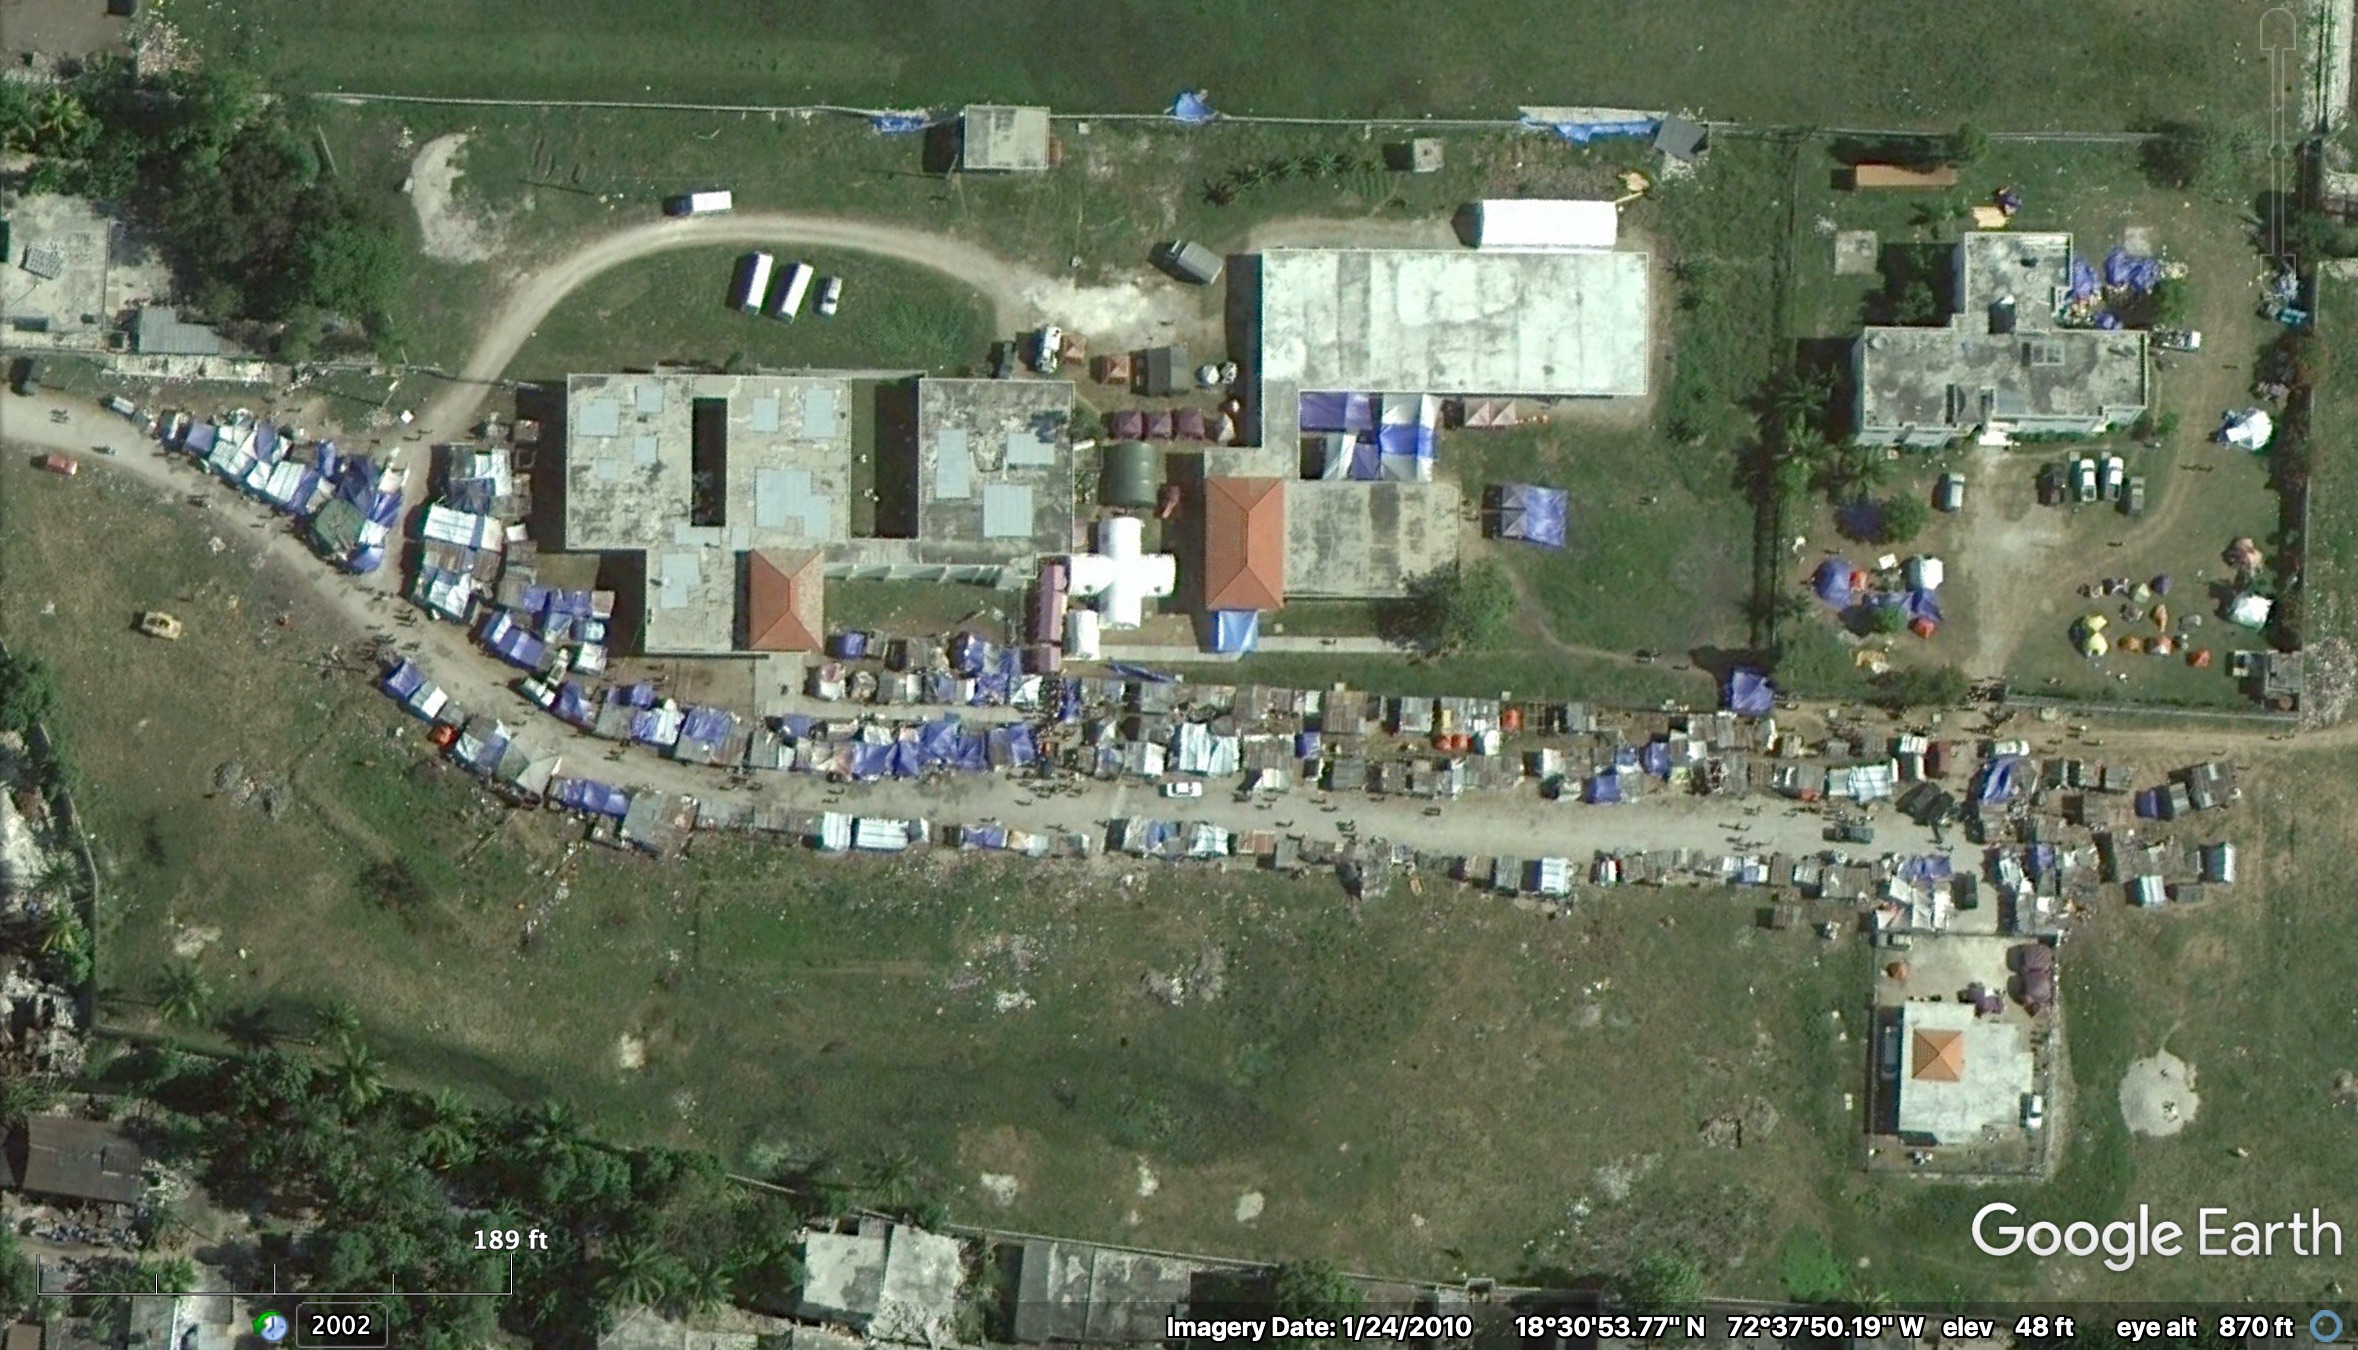building: (1850, 324, 2152, 447), (911, 376, 1076, 540), (566, 372, 690, 547), (728, 376, 850, 545), (1205, 477, 1284, 608), (743, 545, 826, 654), (646, 550, 732, 653), (957, 101, 1054, 175)
car: (1991, 730, 2035, 759), (2021, 1090, 2048, 1134), (1872, 930, 1920, 955)
dirt road: (625, 222, 683, 251), (971, 261, 1026, 291), (714, 218, 789, 239), (901, 234, 960, 261), (824, 224, 883, 246), (513, 295, 537, 332), (553, 262, 589, 283), (482, 333, 501, 375)
grass: (566, 899, 629, 961), (1166, 1027, 1227, 1085), (1192, 1105, 1250, 1157), (1296, 1086, 1353, 1137), (1309, 1198, 1371, 1241), (1400, 1115, 1458, 1162), (1446, 1002, 1504, 1047), (1052, 1118, 1104, 1167), (804, 937, 859, 983), (1965, 36, 2013, 79), (1886, 38, 1932, 79), (2037, 37, 2085, 78), (1634, 36, 1675, 82), (1497, 950, 1547, 986), (1816, 38, 1859, 77), (1742, 39, 1784, 77), (1584, 37, 1621, 78), (1683, 40, 1722, 77), (1539, 43, 1570, 80)
tent: (1495, 478, 1573, 550), (2212, 402, 2276, 461), (418, 500, 484, 556), (313, 494, 364, 563), (1615, 839, 1676, 894), (987, 713, 1037, 778), (853, 806, 913, 861), (2186, 759, 2249, 810), (1721, 662, 1776, 718), (414, 568, 473, 622), (917, 707, 962, 776), (1300, 390, 1373, 433), (1180, 813, 1235, 867), (1174, 717, 1214, 785), (1534, 849, 1581, 907), (377, 650, 427, 704), (1321, 685, 1370, 739), (1300, 431, 1353, 481), (688, 696, 743, 743), (1213, 607, 1267, 654), (553, 672, 596, 729), (1123, 732, 1167, 785), (1240, 733, 1298, 776), (1378, 392, 1445, 428), (873, 661, 923, 708), (1809, 554, 1854, 606), (643, 696, 684, 753), (945, 622, 987, 678), (1226, 678, 1276, 724), (264, 453, 306, 507), (816, 799, 855, 856), (809, 657, 853, 707), (1393, 688, 1434, 741), (2222, 589, 2275, 630), (1377, 425, 1443, 457), (1851, 763, 1895, 806), (1492, 845, 1528, 895), (1328, 755, 1372, 795), (1455, 843, 1495, 887), (1583, 768, 1626, 807), (1905, 549, 1948, 590), (859, 738, 898, 783), (2206, 838, 2239, 888), (553, 582, 593, 625), (581, 771, 616, 819), (775, 706, 817, 747), (2066, 751, 2103, 795), (180, 417, 220, 456), (1556, 695, 1594, 737), (452, 724, 488, 768), (1794, 752, 1828, 798), (974, 815, 1009, 856), (834, 625, 874, 661), (2100, 756, 2136, 796), (1767, 850, 1799, 893), (480, 606, 510, 651), (1526, 744, 1566, 779), (1437, 757, 1471, 797), (1376, 757, 1409, 798), (1765, 901, 1808, 933), (1646, 737, 1672, 779), (1075, 670, 1104, 707), (1745, 760, 1779, 792), (1612, 736, 1645, 768), (1925, 845, 1954, 880), (1742, 849, 1769, 885), (1488, 396, 1520, 426), (2136, 872, 2165, 905), (1459, 396, 1487, 431), (1102, 676, 1126, 710), (1720, 845, 1742, 880), (1911, 613, 1938, 640)
tree: (397, 1085, 480, 1166), (318, 1035, 395, 1116), (141, 964, 216, 1026), (282, 237, 347, 297), (252, 170, 308, 221), (224, 234, 275, 287), (177, 107, 228, 158), (38, 91, 86, 141), (110, 149, 163, 191), (172, 237, 214, 284), (179, 177, 228, 217)
truck: (1152, 234, 1227, 295), (735, 241, 776, 320), (777, 255, 817, 324), (814, 271, 854, 322), (2038, 460, 2071, 512), (1940, 464, 1971, 521), (2101, 454, 2127, 508), (34, 449, 79, 479), (2077, 455, 2098, 505)
